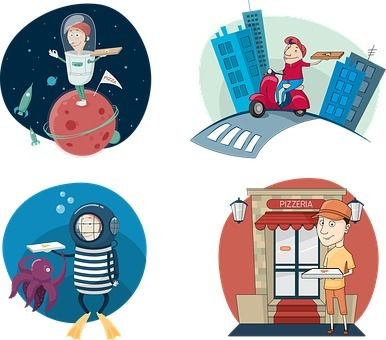motorbike: (244, 72, 312, 117)
person: (43, 208, 121, 338), (47, 16, 109, 108), (313, 197, 353, 333), (265, 31, 321, 110)
